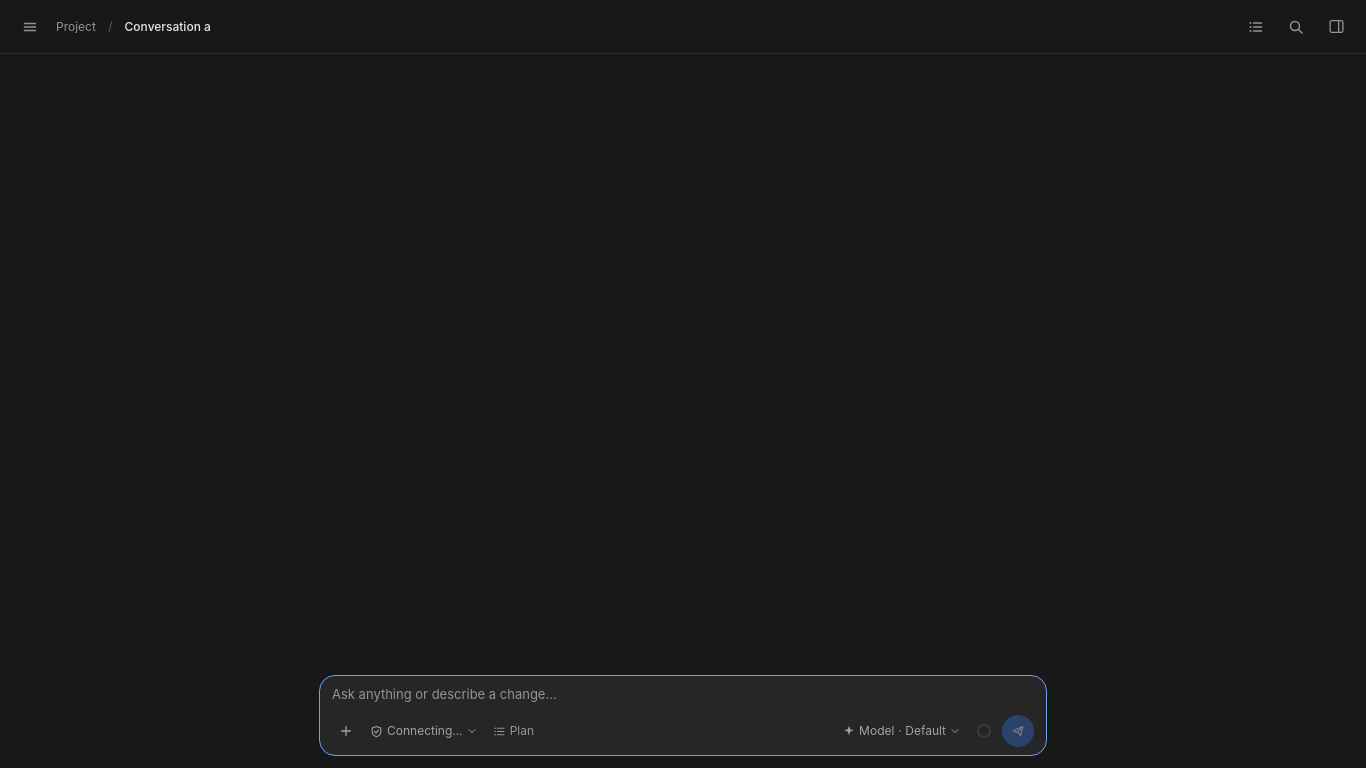
Test: checks a manually loaded Markdown image and reloads it after an external change
Click the button named "Open workspace" at (1336, 26), box [1322,12,1350,40]
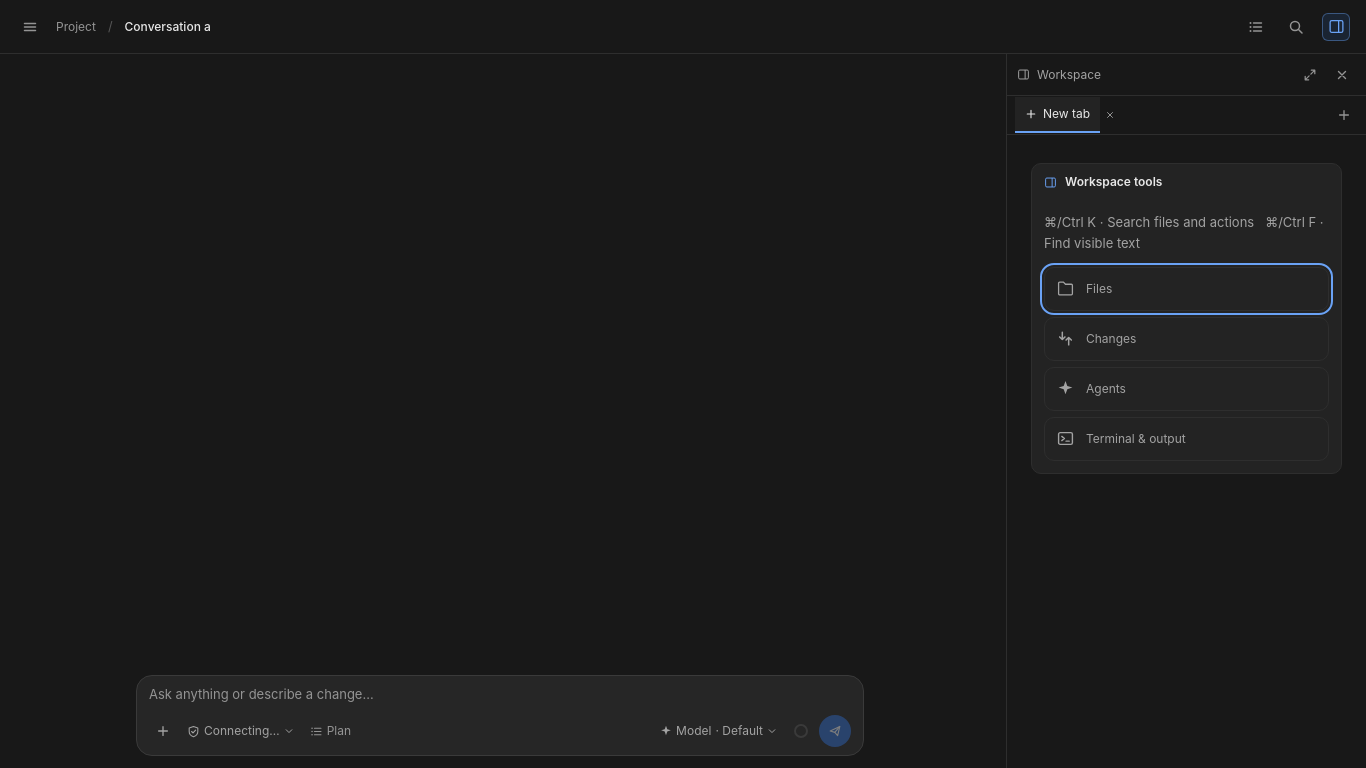
Click the button "Files" at (1066, 289), box [1044,267,1329,311]
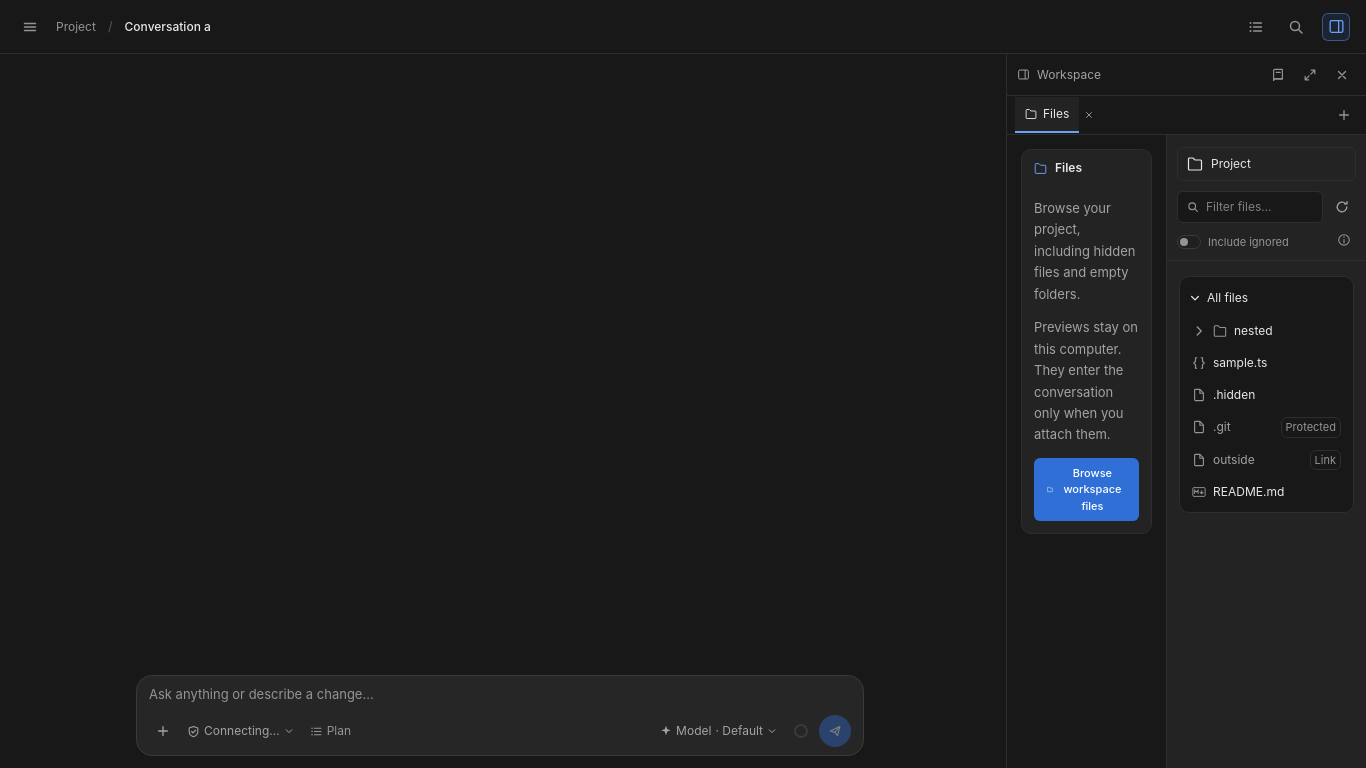
Click the button "README.md" at (1266, 492), box [1184,476,1349,508]
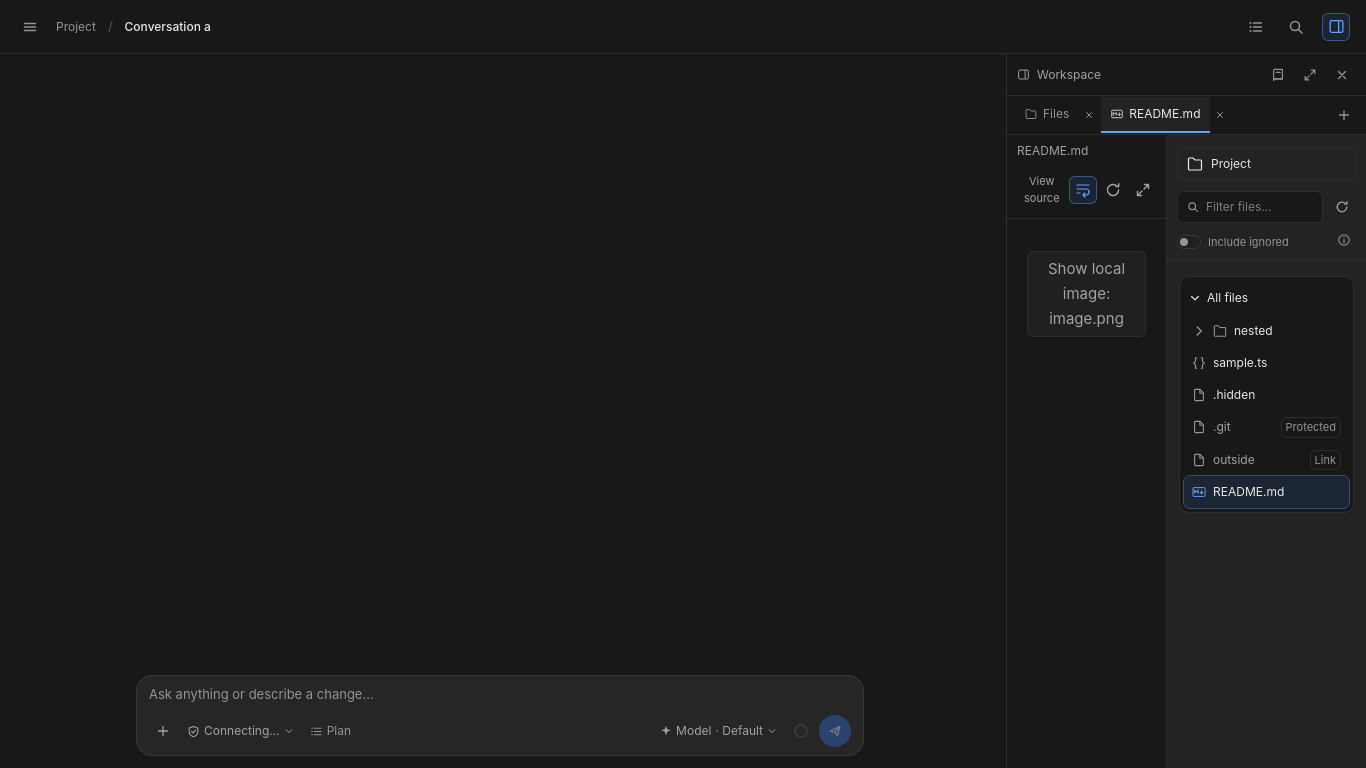
Click the button "Show local image: image.png" at (1086, 294), box [1027,251,1146,337]
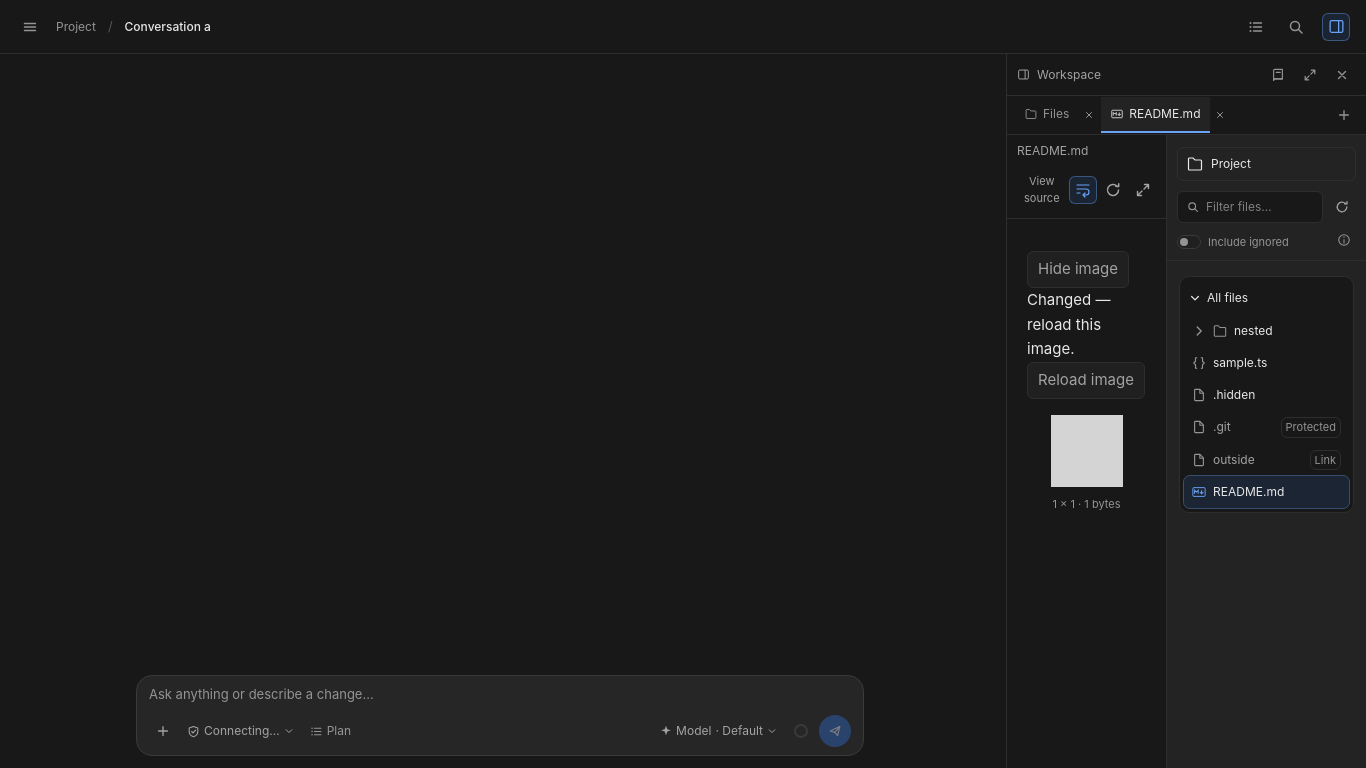
Now the text "Changed — reload this image." is shown, box [1027,290,1110,358]
Click the button "Reload image" at (1086, 380), box [1027,362,1145,399]
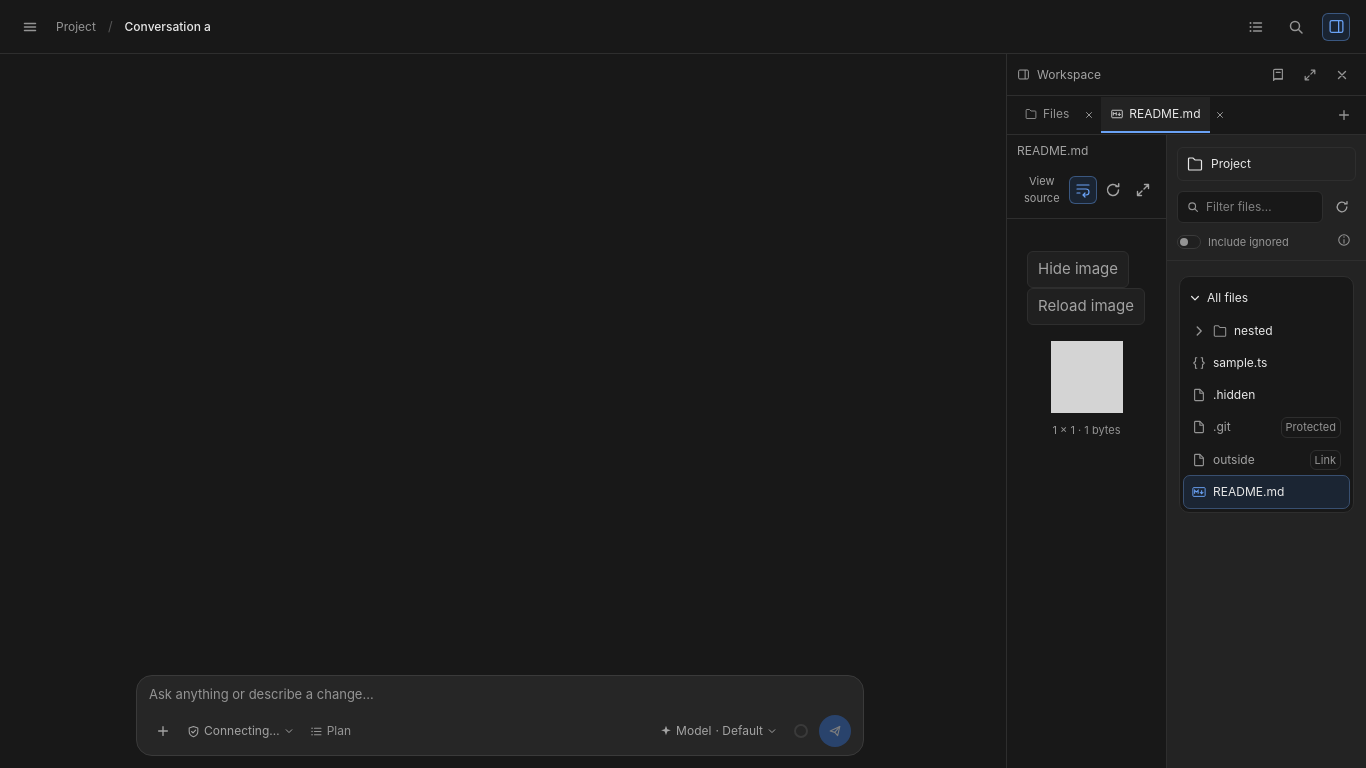
Now the text "Changed — reload this image." is gone
